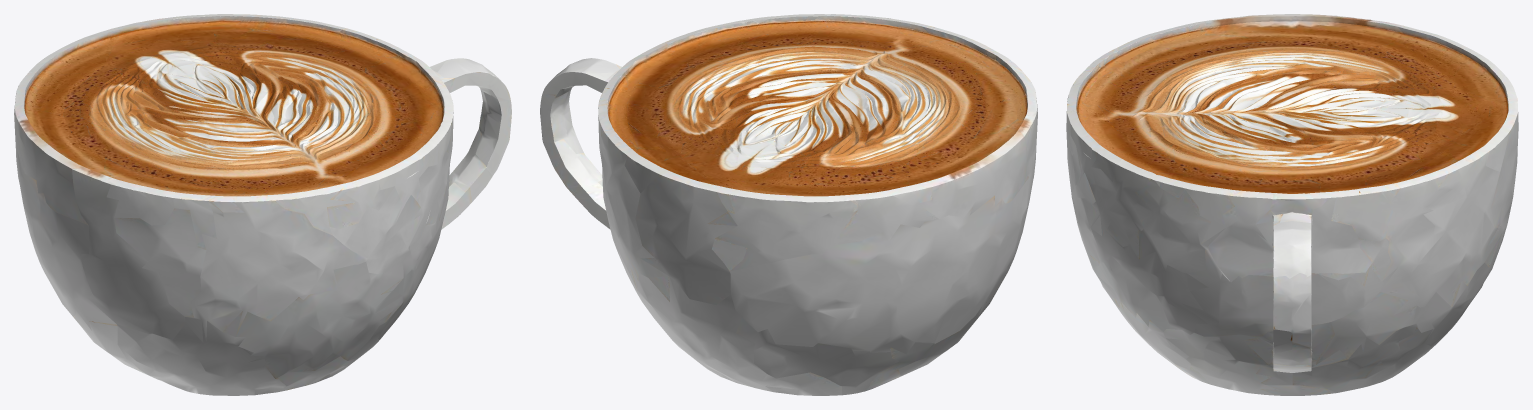
File: lantern.glb
The picture shows the model from 3 angles, left to right: view 1: azimuth 30°, elevation 25°; view 2: azimuth 150°, elevation 25°; view 3: azimuth 270°, elevation 25°; orthographic projection.
Visible parts, largest first — view 1: Mesh_0; view 2: Mesh_0; view 3: Mesh_0.
Boxes of the visible parts, box(x1,y1,x2,y2) form: Mesh_0: box(14, 14, 511, 395); Mesh_0: box(540, 14, 1037, 395); Mesh_0: box(1066, 14, 1518, 395).
Size of the model in its own units: 1.9 by 0.937 by 1.61.
Materials: 1 (1 with a texture image).
